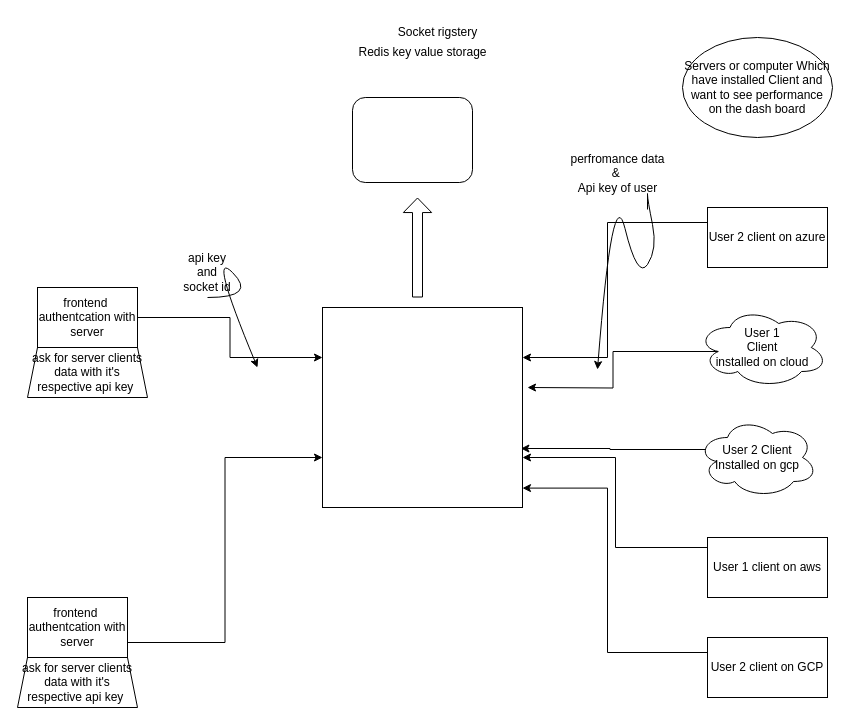
Some shapes in this 850 by 725 pixel diagram are drawn without their labels. The centre of each missing label's shape, as x and y in pixels:
"servers authentication. Bridge between server clients and frontend clients." goes at pixel 422 407.
"user api key - fontend socket ids. ex : User1_key: socketid1, socketid2" goes at pixel 412 139.
